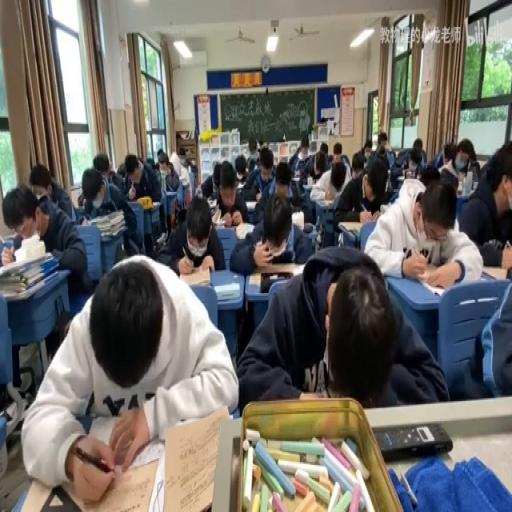calculator: (178, 263, 210, 286), (214, 215, 248, 230), (213, 282, 241, 300), (418, 279, 450, 294), (481, 263, 509, 280), (338, 219, 364, 233), (291, 209, 304, 230), (247, 270, 262, 286), (314, 196, 334, 206), (211, 205, 222, 222), (154, 232, 166, 247), (1, 232, 17, 243), (299, 181, 313, 192), (245, 199, 259, 209), (206, 196, 216, 208), (150, 199, 161, 209), (235, 179, 245, 189), (80, 214, 90, 224), (178, 175, 190, 183), (195, 186, 202, 196), (292, 174, 302, 180), (396, 172, 403, 179)
paper: (24, 254, 238, 496), (238, 246, 444, 411), (365, 175, 484, 286), (4, 178, 90, 301), (449, 259, 510, 401), (230, 190, 312, 274), (80, 165, 142, 262), (461, 140, 512, 253), (160, 192, 225, 274), (245, 148, 280, 213), (309, 155, 351, 202), (156, 149, 182, 209), (392, 135, 427, 178), (365, 131, 396, 171), (293, 135, 320, 178), (196, 158, 221, 199), (478, 237, 508, 266), (418, 164, 441, 186), (233, 153, 248, 185), (485, 160, 502, 188), (186, 158, 198, 196), (93, 151, 110, 176), (350, 149, 366, 175), (274, 162, 290, 186), (442, 140, 457, 164), (438, 160, 457, 178), (467, 158, 480, 182), (430, 148, 444, 169), (331, 142, 342, 165), (248, 139, 258, 155), (363, 138, 373, 154), (315, 160, 325, 176), (116, 161, 126, 176), (318, 142, 328, 156), (258, 138, 268, 151), (146, 155, 155, 169), (246, 156, 255, 170), (156, 148, 163, 161), (309, 144, 317, 155), (378, 145, 386, 155), (301, 145, 307, 155)
person: (374, 422, 451, 461), (258, 270, 293, 292)
